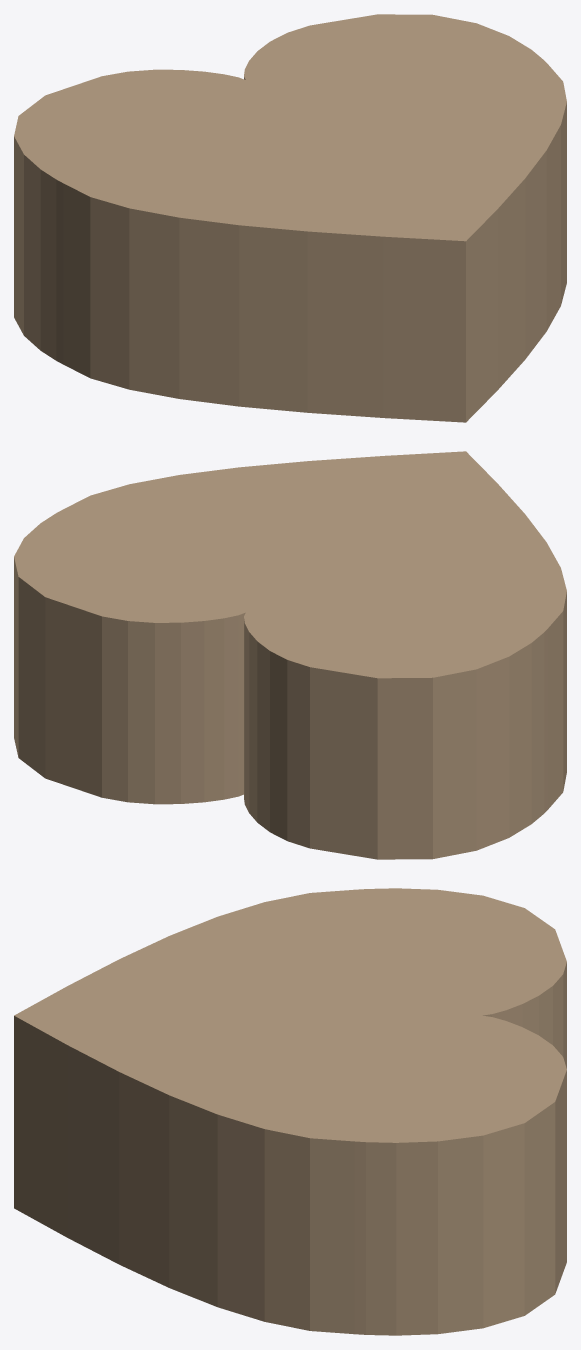
File: Spectacular Krunk-Turing.glb
The picture shows the model from 3 angles, top to bottom: view 1: azimuth 30°, elevation 25°; view 2: azimuth 150°, elevation 25°; view 3: azimuth 270°, elevation 25°; orthographic projection. The views are drawn at different scales.
Visible parts, largest first — view 1: Mesh_Mesh_head_geo.001_lambert2SG.001; view 2: Mesh_Mesh_head_geo.001_lambert2SG.001; view 3: Mesh_Mesh_head_geo.001_lambert2SG.001.
Boxes of the visible parts, left/top/right/bottom form: Mesh_Mesh_head_geo.001_lambert2SG.001: left=14, top=14, right=566, bottom=422; Mesh_Mesh_head_geo.001_lambert2SG.001: left=14, top=451, right=566, bottom=859; Mesh_Mesh_head_geo.001_lambert2SG.001: left=14, top=888, right=566, bottom=1335.
Bounding box in the file's own units: 28.33 × 10 × 26.
